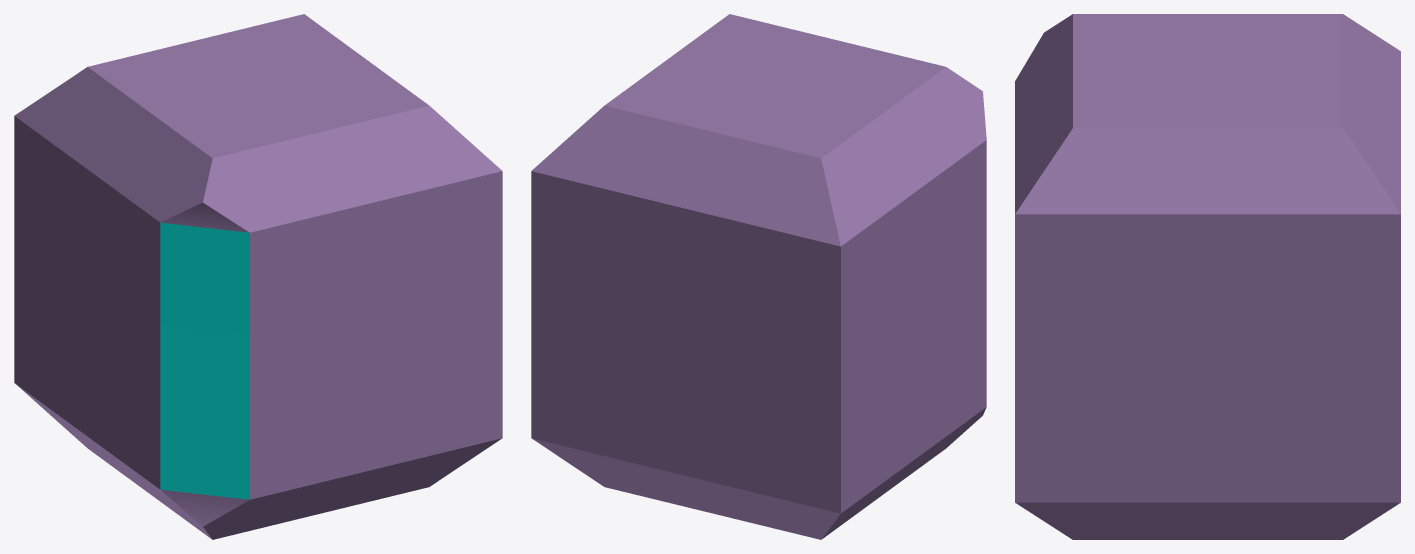
Rendered from Environment_Base_StackA_B_Shattered.fbx.
The picture shows the model from 3 angles, left to right: view 1: azimuth 30°, elevation 25°; view 2: azimuth 150°, elevation 25°; view 3: azimuth 270°, elevation 25°; orthographic projection. The views are drawn at different scales.
Visible parts, largest first — view 1: Environment_Base_StackA_B6, Environment_Base_StackA_B2; view 2: Environment_Base_StackA_B6, Environment_Base_StackA_B2, Environment_Base_StackA_B4, Environment_Base_StackA_B3; view 3: Environment_Base_StackA_B2, Environment_Base_StackA_B6, Environment_Base_StackA_B8, Environment_Base_StackA_B3, Environment_Base_StackA_B5.
Part boxes in pixels (<box>): Environment_Base_StackA_B6: <box>14,22,488,539</box>; Environment_Base_StackA_B2: <box>271,18,502,506</box>; Environment_Base_StackA_B6: <box>638,14,986,539</box>; Environment_Base_StackA_B2: <box>531,61,752,523</box>; Environment_Base_StackA_B4: <box>687,459,736,502</box>; Environment_Base_StackA_B3: <box>564,78,641,141</box>; Environment_Base_StackA_B2: <box>1015,110,1400,539</box>; Environment_Base_StackA_B6: <box>1015,14,1400,206</box>; Environment_Base_StackA_B8: <box>1187,182,1400,506</box>; Environment_Base_StackA_B3: <box>1262,118,1375,176</box>; Environment_Base_StackA_B5: <box>1015,439,1069,534</box>.
Size of the model in its own units: 8.61 by 10.14 by 8.61.
